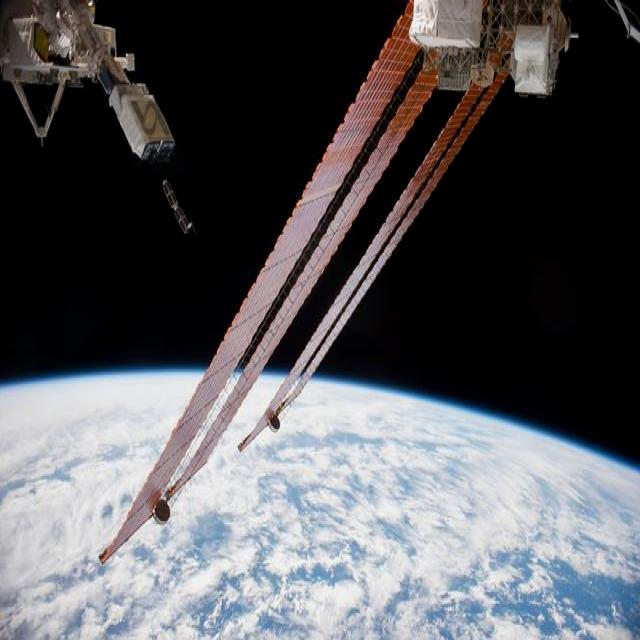satellite: (101, 0, 569, 561), (0, 0, 175, 163)
